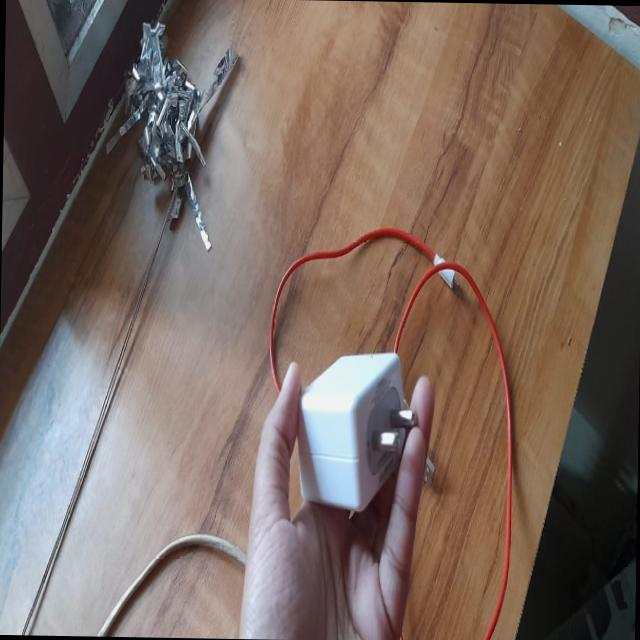Charger - Recyclable: (254, 192, 522, 640)
